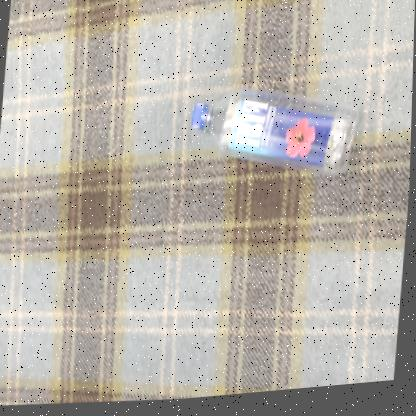Plastic: (192, 91, 359, 181)
